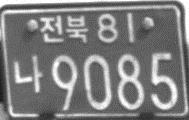0: (82, 53, 113, 110)
1: (124, 10, 136, 46)
5: (148, 51, 179, 112)
8: (115, 52, 145, 111), (89, 11, 117, 46)
9: (49, 52, 78, 111)
나: (13, 53, 44, 95)
전북_O: (38, 14, 90, 44)
